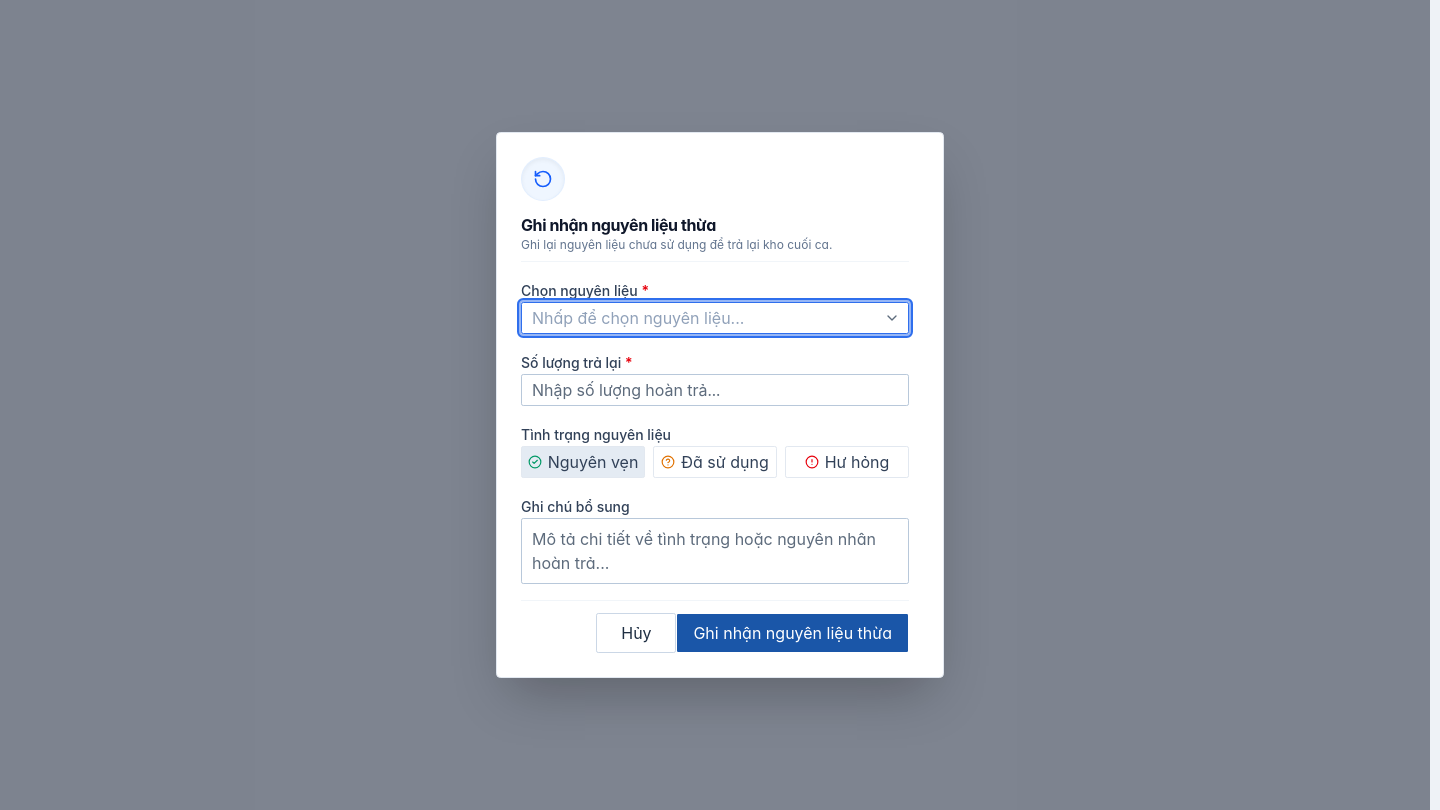
Test case: ExcessMaterialDialog responsive contract › keeps the option discriminator in the closed value
This screenshot has width=1440, height=810.
Click the dropdown labelled "Nhấp để chọn nguyên liệu... ▼".
click(715, 318)  # box x1=521 y1=302 x2=909 y2=334
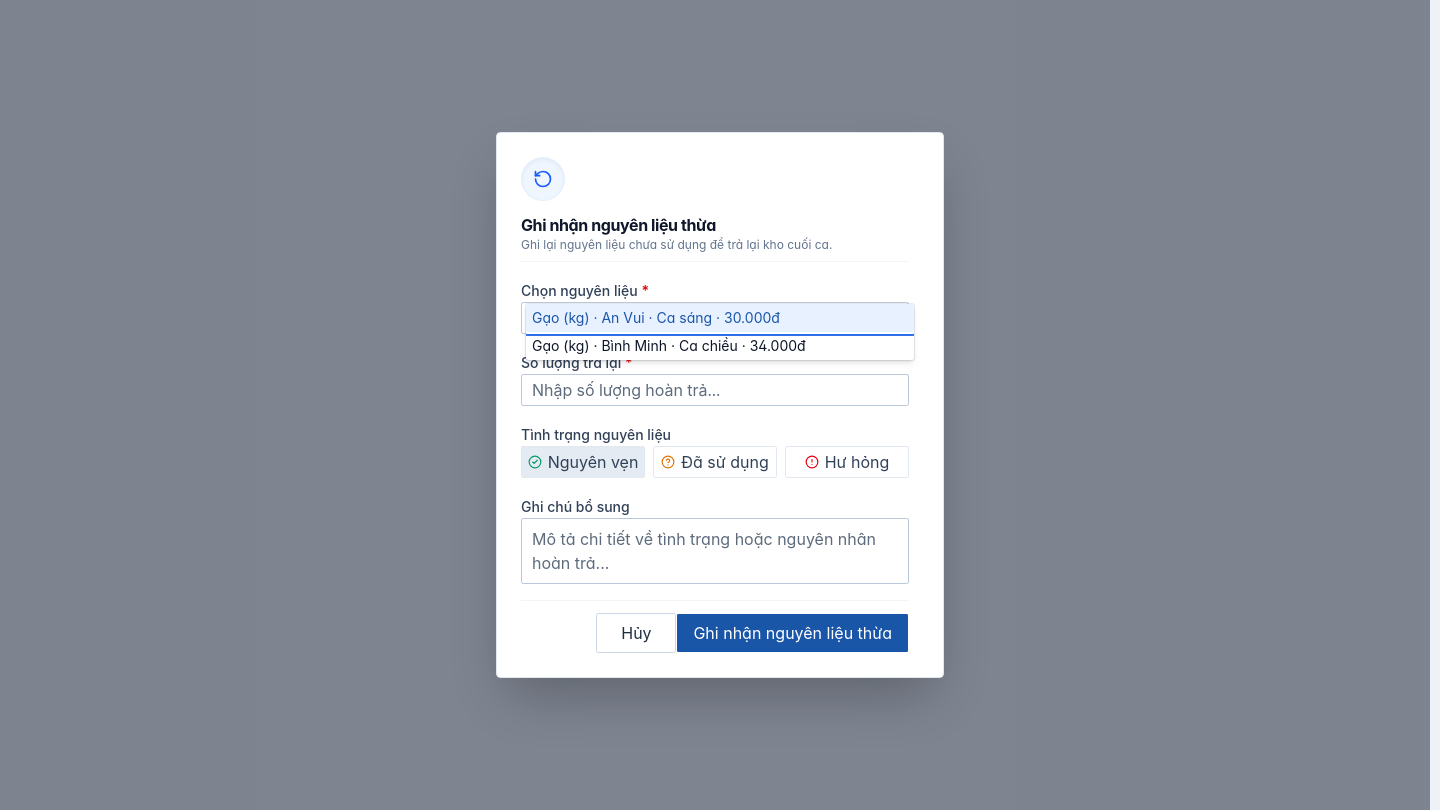
Click the option "Gạo (kg) · Bình Minh · Ca chiều · 34.000đ".
click(669, 346)  # box x1=532 y1=337 x2=806 y2=354
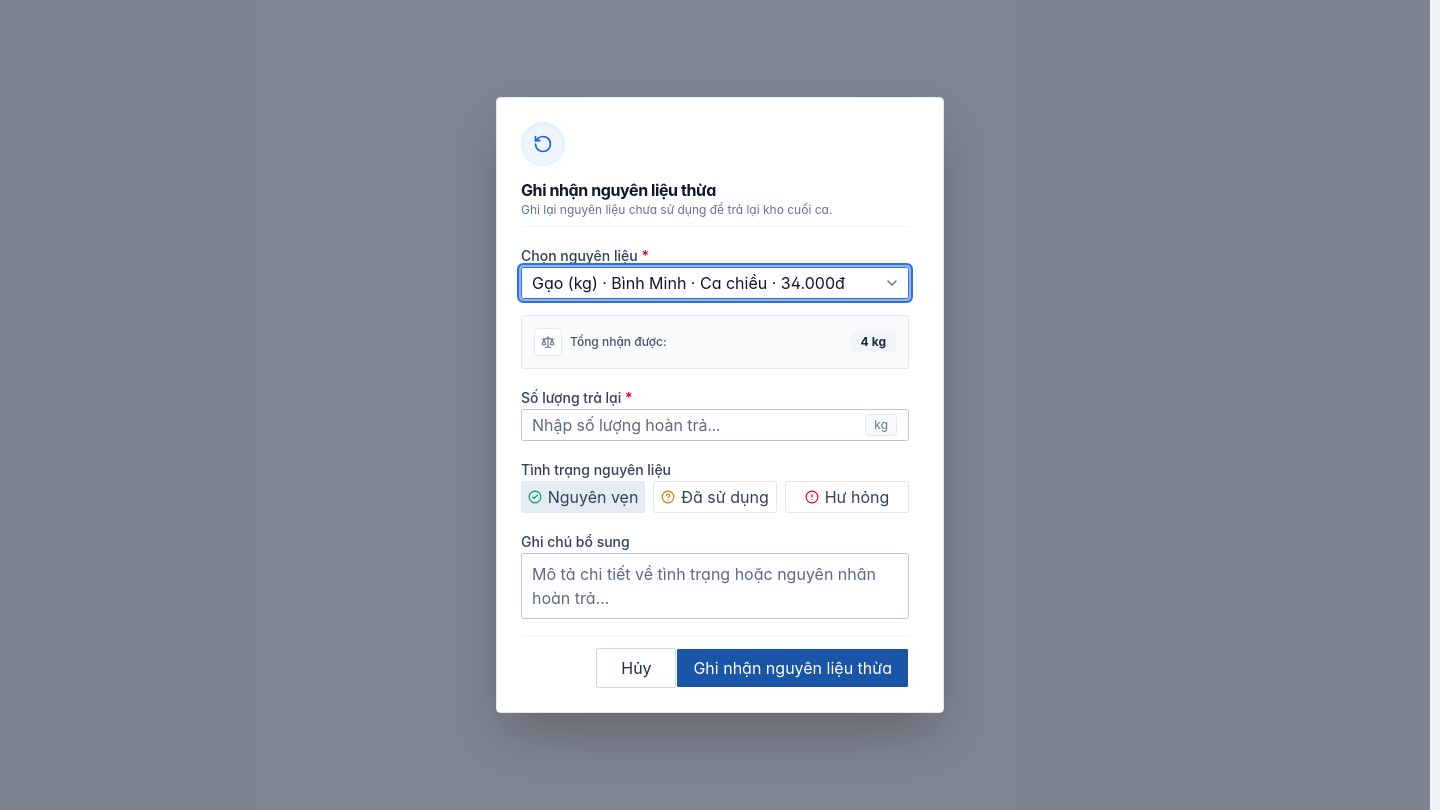
Expected: the dropdown named "Chọn nguyên liệu" does not show "AFTERNOON", x1=521 y1=267 x2=909 y2=299
Expected: the dropdown named "Chọn nguyên liệu" shows "Gạo (kg) · Bình Minh · Ca chiều · 34.000đ", x1=521 y1=267 x2=909 y2=299
